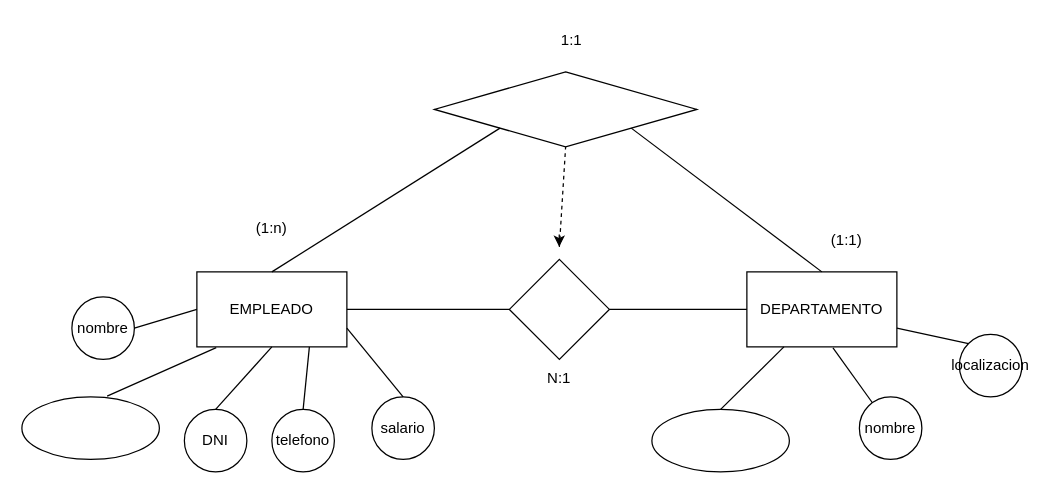
Image size: 1051x494. Some labels were removed from this diagram. Here are the shapes that lost their labels. From the top down, the centre of each, then its label:
At [565,109]: "ser_jefe".
At [558,308]: "trabaja".
At [90,427]: "codigo_empleado".
At [720,440]: "codigo_dpto".
